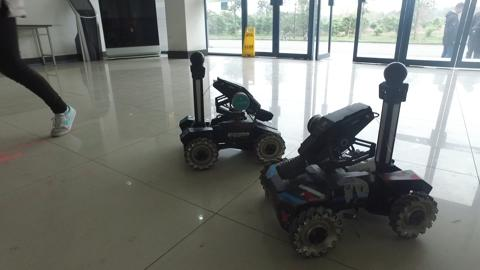chariot: (260, 55, 445, 263), (164, 49, 285, 171)
